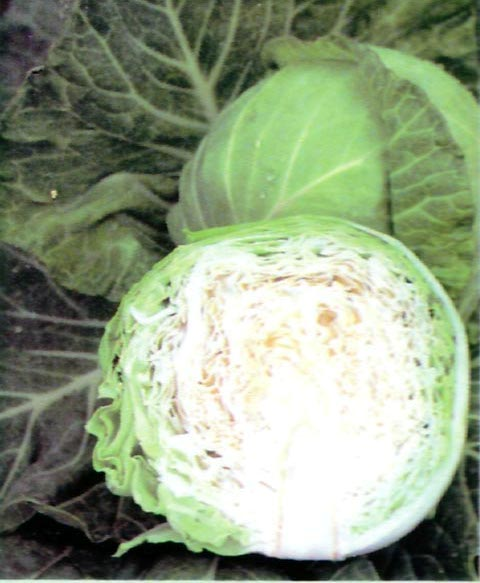cabbage: (81, 213, 469, 561)
